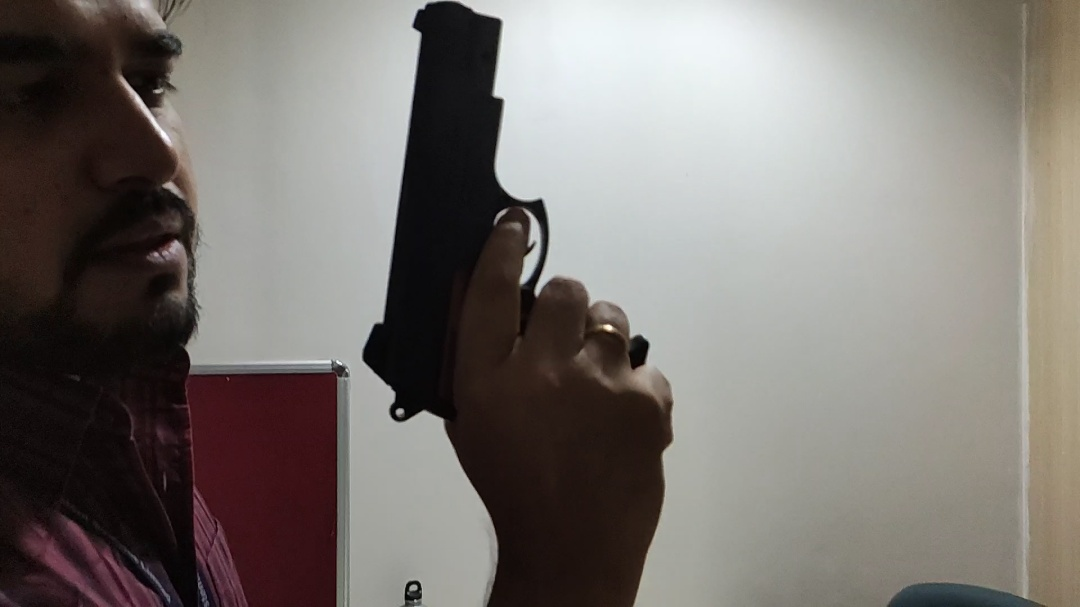gun: (358, 1, 666, 425)
